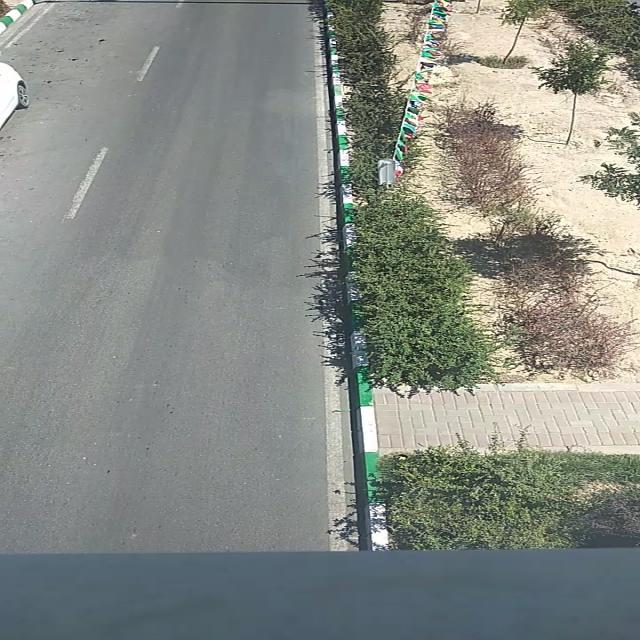car: (0, 60, 32, 140)
